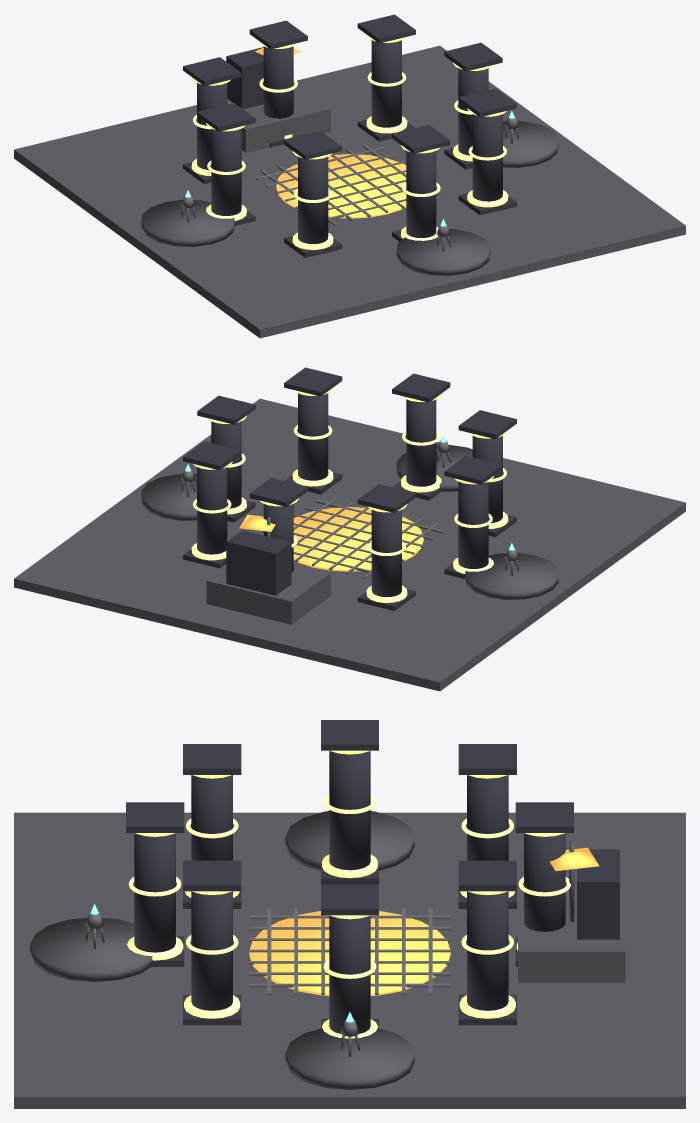
Rendered from lost_tower_abyss.glb.
3 renders of one model, top to bottom at view 1: azimuth 30°, elevation 25°; view 2: azimuth 150°, elevation 25°; view 3: azimuth 270°, elevation 25°, orthographic. The views are drawn at different scales.
Parts seen in each view (by area): view 1: LostTower_BasaltFloor, LostTower_CentralMagma, LostTower_Balcony_3, LostTower_Balcony_1, LostTower_BalrogDais, LostTower_Col_8_Shaft, LostTower_Col_2_Shaft, LostTower_Col_6_Shaft, LostTower_Col_5_Shaft, LostTower_Col_7_Shaft, LostTower_Balcony_2, LostTower_Col_3_Shaft (+11 smaller); view 2: LostTower_BasaltFloor, LostTower_BalrogDais, LostTower_CentralMagma, LostTower_BalrogThrone, LostTower_Balcony_1, LostTower_Col_8_Shaft, LostTower_Col_7_Shaft, LostTower_Col_2_Shaft, LostTower_Col_4_Shaft, LostTower_Col_5_Shaft, LostTower_Balcony_2, LostTower_Col_1_Shaft (+11 smaller); view 3: LostTower_BasaltFloor, LostTower_CentralMagma, LostTower_BalrogDais, LostTower_Balcony_2, LostTower_Balcony_3, LostTower_Col_2_Shaft, LostTower_Col_8_Shaft, LostTower_Col_7_Shaft, LostTower_Col_5_Shaft, LostTower_Col_1_Shaft, LostTower_Balcony_1, LostTower_Col_3_Shaft (+21 smaller).
Boxes of the visible parts, x1,y1,x2,y2 form: LostTower_BasaltFloor: [14, 45, 685, 338]; LostTower_CentralMagma: [276, 154, 406, 218]; LostTower_Balcony_3: [396, 229, 490, 275]; LostTower_Balcony_1: [141, 199, 234, 246]; LostTower_BalrogDais: [227, 82, 330, 152]; LostTower_Col_8_Shaft: [472, 114, 502, 201]; LostTower_Col_2_Shaft: [371, 40, 401, 127]; LostTower_Col_6_Shaft: [298, 156, 328, 244]; LostTower_Col_5_Shaft: [211, 128, 241, 215]; LostTower_Col_7_Shaft: [406, 150, 436, 237]; LostTower_Balcony_2: [503, 120, 558, 167]; LostTower_Col_3_Shaft: [263, 46, 293, 118]; LostTower_BasaltFloor: [14, 398, 685, 691]; LostTower_BalrogDais: [206, 564, 330, 624]; LostTower_CentralMagma: [293, 507, 423, 571]; LostTower_BalrogThrone: [226, 530, 291, 595]; LostTower_Balcony_1: [465, 552, 558, 599]; LostTower_Col_8_Shaft: [298, 393, 328, 480]; LostTower_Col_7_Shaft: [406, 399, 436, 486]; LostTower_Col_2_Shaft: [197, 467, 227, 554]; LostTower_Col_4_Shaft: [371, 509, 401, 597]; LostTower_Col_5_Shaft: [458, 481, 488, 568]; LostTower_Balcony_2: [141, 473, 196, 520]; LostTower_Col_1_Shaft: [211, 421, 241, 508]; LostTower_BasaltFloor: [14, 812, 685, 1108]; LostTower_CentralMagma: [249, 911, 450, 996]; LostTower_BalrogDais: [518, 894, 625, 983]; LostTower_Balcony_2: [285, 1028, 414, 1089]; LostTower_Balcony_3: [30, 918, 152, 981]; LostTower_Col_2_Shaft: [467, 891, 508, 1010]; LostTower_Col_8_Shaft: [191, 891, 232, 1010]; LostTower_Col_7_Shaft: [134, 833, 175, 952]; LostTower_Col_5_Shaft: [329, 751, 370, 870]; LostTower_Col_1_Shaft: [329, 915, 370, 1033]; LostTower_Balcony_1: [285, 811, 414, 870]; LostTower_Col_3_Shaft: [524, 833, 565, 931].
Bounding box in the file's own units: 50 × 12.5 × 50.
